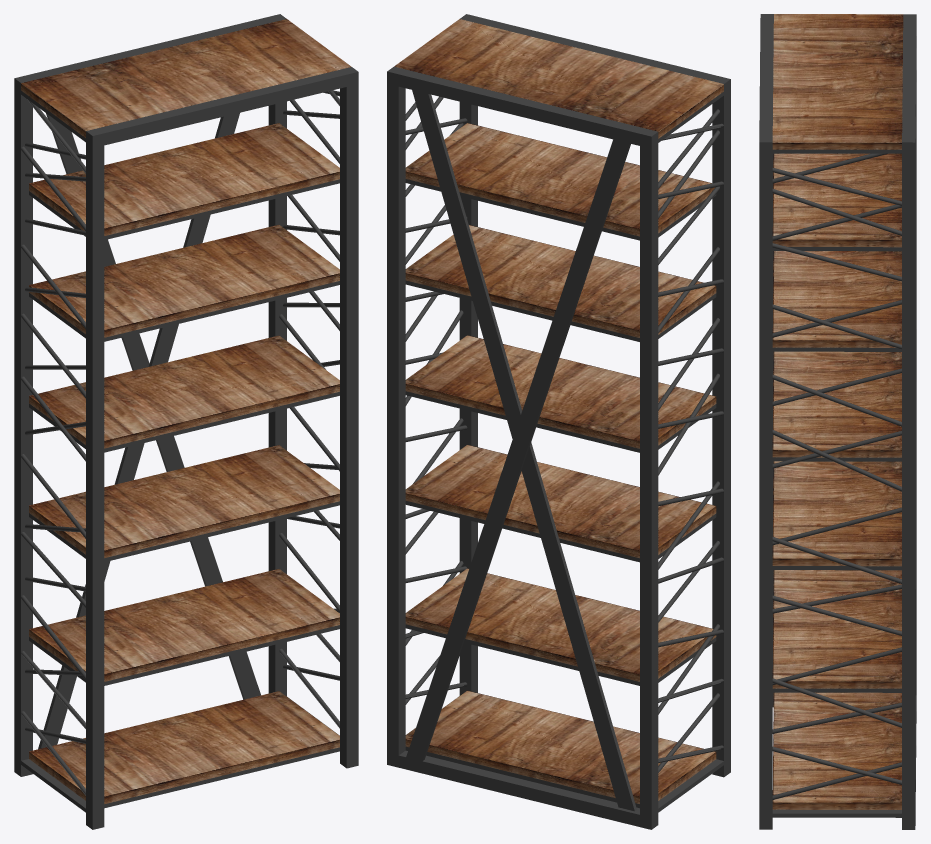
File: etagere_5.glb
The picture shows the model from 3 angles, left to right: view 1: azimuth 30°, elevation 25°; view 2: azimuth 150°, elevation 25°; view 3: azimuth 270°, elevation 25°; orthographic projection.
Visible parts, largest first — view 1: Cube.028, Cube.010, Cube.003, Cube.006, Cube.004, Cube.038, Cube.001, Cube, Cube.007, Cube.002, Cube.009, Cube.005 (+10 smaller); view 2: Cube.028, Cube.010, Cube.038, Cube.006, Cube.003, Cube.001, Cube.004, Cube.005, Cube.002, Cube.012, Cube.013, Cube (+11 smaller); view 3: Cube.028, Cube.003, Cube.010, Cube.006, Cube.004, Cube.001, Cube.038, Cube.007, Cube.005, Cube.008, Cube.009, Cube.020 (+29 smaller).
Part boxes in pixels (x1=…): Cube.028: x1=21, y1=19, x2=351, y2=137; Cube.010: x1=29, y1=691, x2=339, y2=803; Cube.003: x1=29, y1=569, x2=339, y2=681; Cube.006: x1=29, y1=445, x2=339, y2=557; Cube.004: x1=29, y1=335, x2=339, y2=448; Cube.038: x1=29, y1=123, x2=339, y2=235; Cube.001: x1=29, y1=224, x2=339, y2=337; Cube: x1=86, y1=129, x2=104, y2=829; Cube.007: x1=340, y1=67, x2=358, y2=768; Cube.002: x1=14, y1=76, x2=32, y2=776; Cube.009: x1=87, y1=70, x2=346, y2=145; Cube.005: x1=268, y1=14, x2=286, y2=696; Cube.028: x1=394, y1=19, x2=723, y2=138; Cube.010: x1=405, y1=690, x2=716, y2=803; Cube.038: x1=405, y1=123, x2=714, y2=236; Cube.006: x1=405, y1=444, x2=716, y2=558; Cube.003: x1=405, y1=568, x2=716, y2=681; Cube.001: x1=405, y1=225, x2=716, y2=337; Cube.004: x1=405, y1=335, x2=716, y2=448; Cube.005: x1=387, y1=66, x2=405, y2=767; Cube.002: x1=640, y1=129, x2=658, y2=817; Cube.012: x1=412, y1=90, x2=636, y2=811; Cube.013: x1=406, y1=139, x2=630, y2=761; Cube: x1=712, y1=76, x2=730, y2=777; Cube.028: x1=772, y1=14, x2=903, y2=149; Cube.003: x1=772, y1=570, x2=901, y2=688; Cube.010: x1=772, y1=692, x2=901, y2=809; Cube.006: x1=772, y1=461, x2=901, y2=566; Cube.004: x1=772, y1=351, x2=901, y2=457; Cube.001: x1=772, y1=251, x2=901, y2=347; Cube.038: x1=772, y1=153, x2=901, y2=247; Cube.007: x1=759, y1=136, x2=772, y2=829; Cube.005: x1=902, y1=136, x2=915, y2=829; Cube.008: x1=902, y1=14, x2=916, y2=136; Cube.009: x1=759, y1=14, x2=773, y2=136; Cube.020: x1=772, y1=809, x2=901, y2=817.
Bounding box in the file's own units: 0.6814 × 1.7 × 0.3528.
7 materials, 6 textured.
